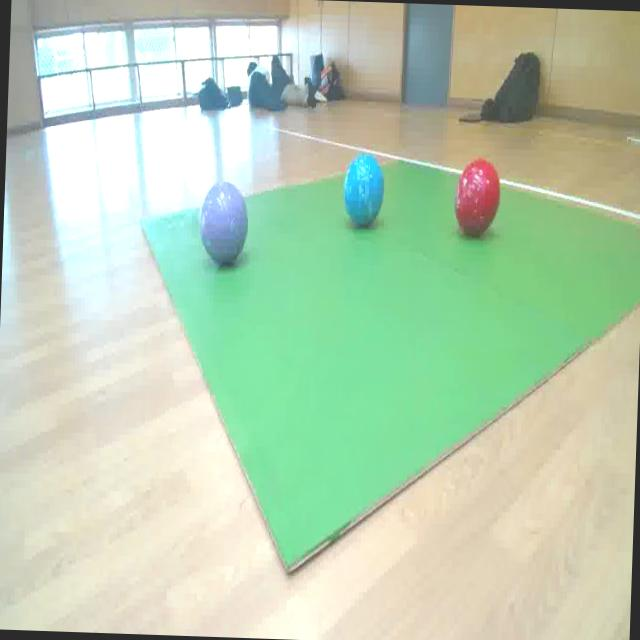blue_ball: (342, 150, 386, 224)
purple_ball: (198, 178, 250, 266)
red_ball: (454, 155, 502, 242)
